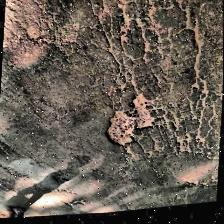pothole: (106, 94, 158, 153)
